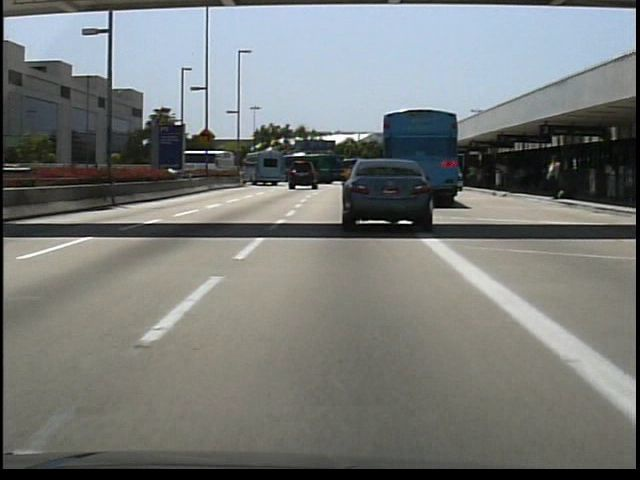person: (543, 154, 565, 202)
